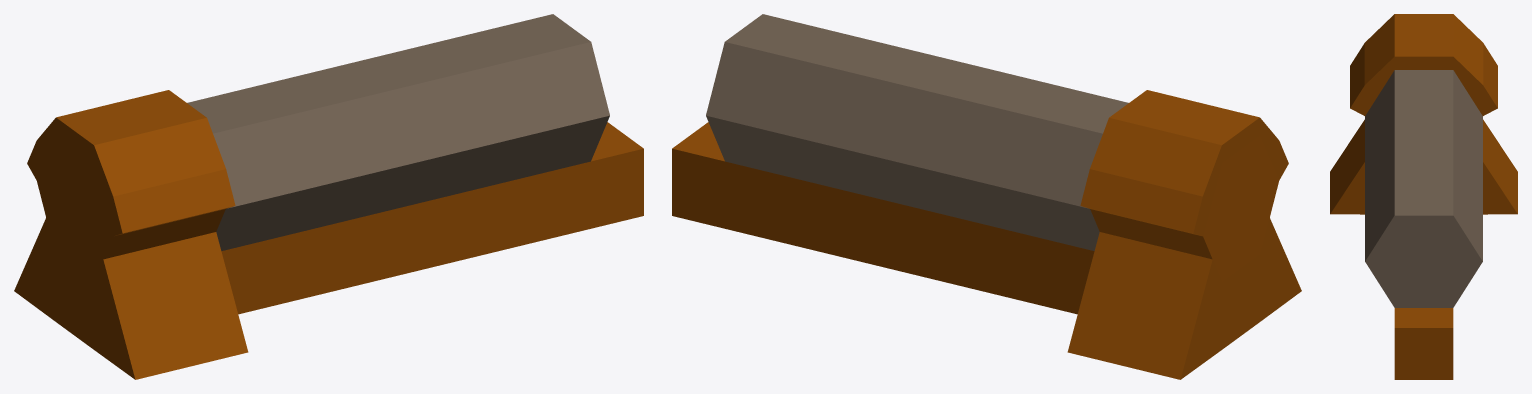
Rendered from Gun.fbx.
3 renders of one model, left to right at view 1: azimuth 30°, elevation 25°; view 2: azimuth 150°, elevation 25°; view 3: azimuth 270°, elevation 25°, orthographic. The views are drawn at different scales.
Parts seen in each view (by area): view 1: Gun; view 2: Gun; view 3: Gun.
Boxes of the visible parts, <box> form: Gun: <box>14,14,643,379</box>; Gun: <box>672,14,1301,379</box>; Gun: <box>1330,14,1517,379</box>.
Size of the model in its own units: 8.34 by 2.97 by 3.19.
